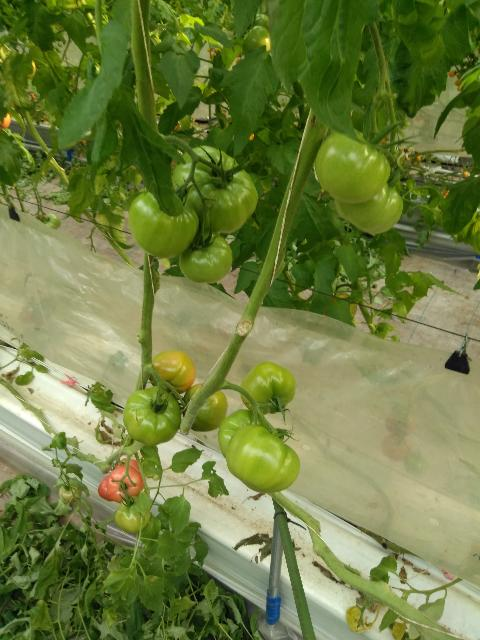b_fully_ripened: (98, 475, 114, 501)
b_green: (171, 146, 258, 234), (315, 131, 390, 204), (226, 425, 300, 494), (129, 191, 199, 259), (334, 183, 402, 236), (123, 386, 181, 446), (240, 362, 295, 415), (179, 231, 233, 283), (217, 409, 270, 459), (182, 383, 228, 432), (115, 496, 151, 534)
b_half_ripened: (147, 350, 196, 396), (107, 465, 144, 504), (114, 457, 140, 472)
